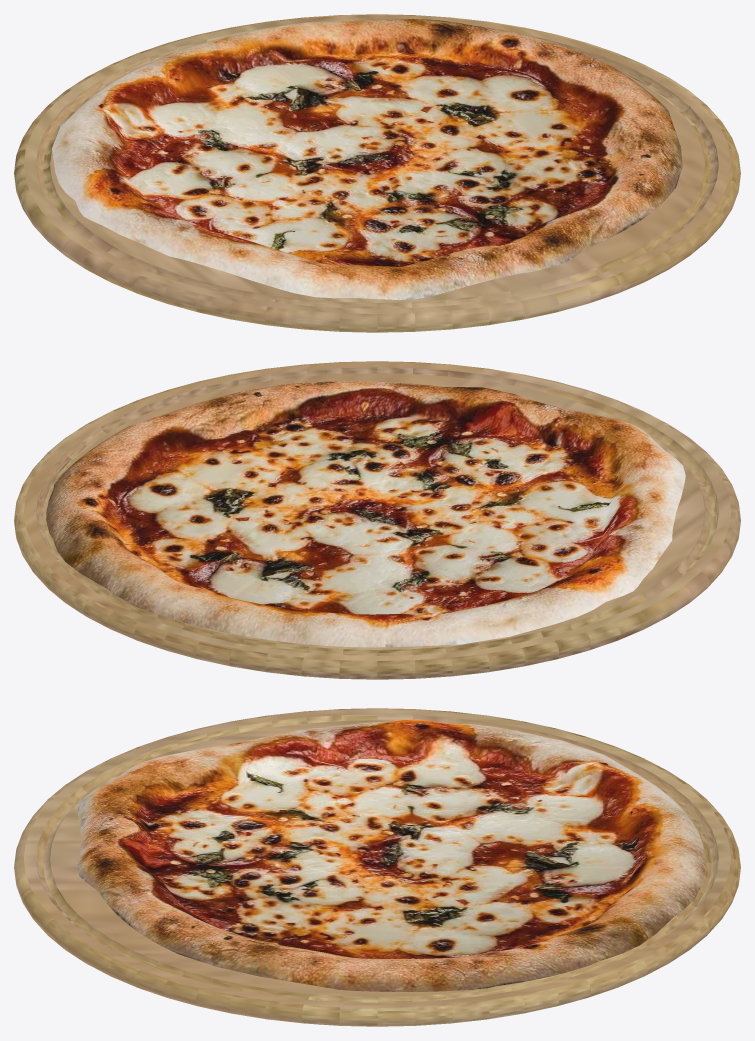
File: stone-oven-pizza.glb
The picture shows the model from 3 angles, top to bottom: view 1: azimuth 30°, elevation 25°; view 2: azimuth 150°, elevation 25°; view 3: azimuth 270°, elevation 25°; orthographic projection.
Visible parts, largest first — view 1: Material2 (×2); view 2: Material2 (×2); view 3: Material2 (×2).
Boxes of the visible parts, <box> form: Material2 (×2): <box>14,14,740,332</box>; Material2 (×2): <box>14,361,740,679</box>; Material2 (×2): <box>14,708,740,1026</box>.
Bounding box in the file's own units: 18.31 × 0.928 × 18.31.
Materials: 2 (2 with a texture image).
